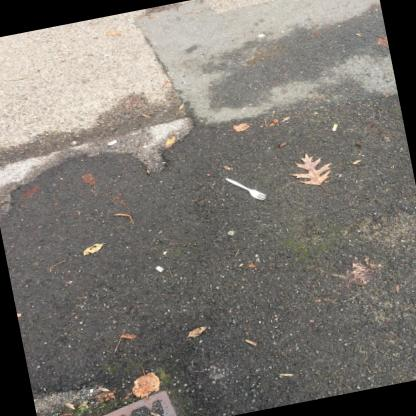Paper: (331, 124, 338, 131)
Plastic: (225, 177, 266, 199)
